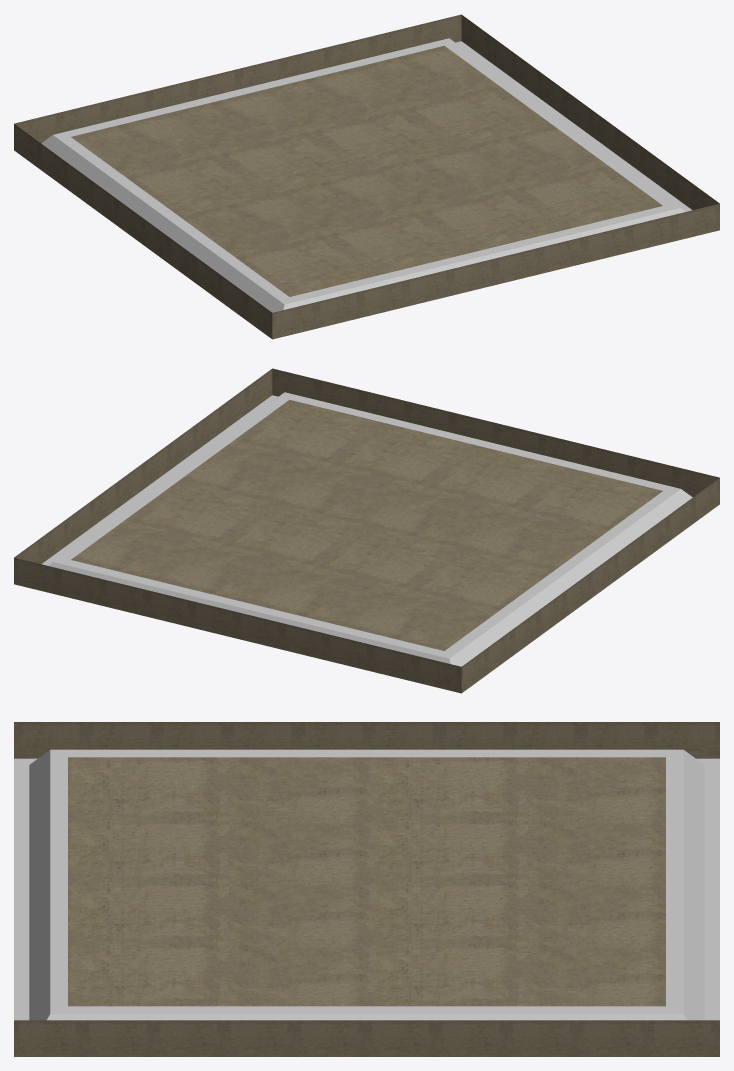
The model's file is Ceiling_02.FBX.
3 views of the same model, one above another, from view 1: azimuth 30°, elevation 25°; view 2: azimuth 150°, elevation 25°; view 3: azimuth 270°, elevation 25° (orthographic). The views are drawn at different scales.
Visible parts, largest first — view 1: Ceiling_02; view 2: Ceiling_02; view 3: Ceiling_02.
Boxes of the visible parts, x1,y1,x2,y2 form: Ceiling_02: (14, 14, 719, 339); Ceiling_02: (14, 368, 719, 693); Ceiling_02: (14, 722, 719, 1056).
Size of the model in its own units: 10 by 0.5702 by 10.
